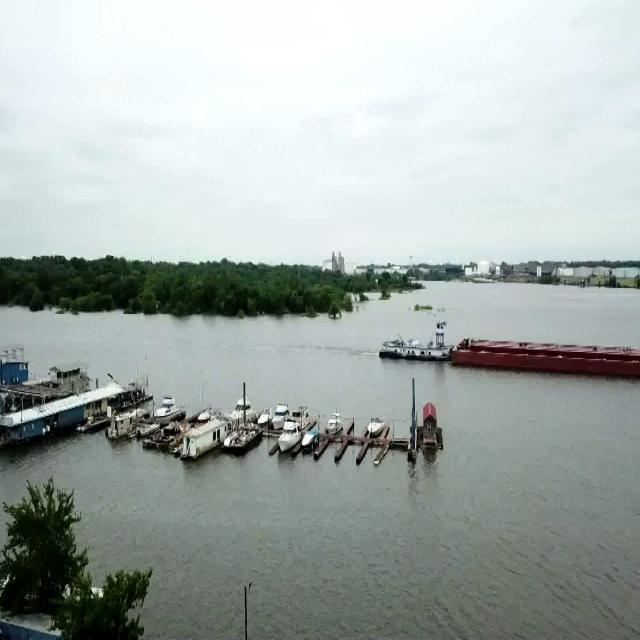passenger ship: (272, 414, 298, 456), (361, 412, 382, 441)
